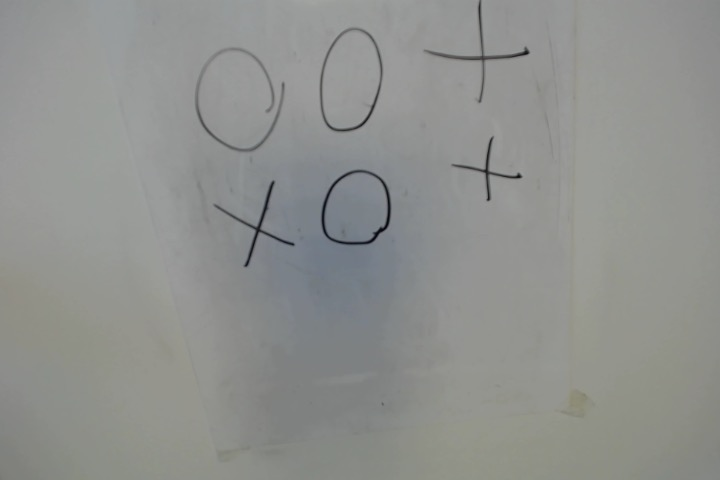0: (194, 44, 290, 157), (314, 22, 385, 137), (317, 169, 396, 246)
x: (202, 181, 300, 273), (432, 15, 521, 105), (450, 133, 527, 210)
